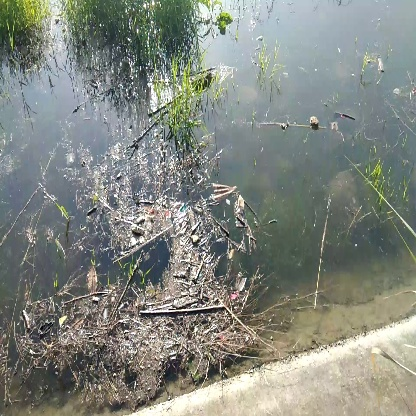branch: (133, 297, 229, 320)
